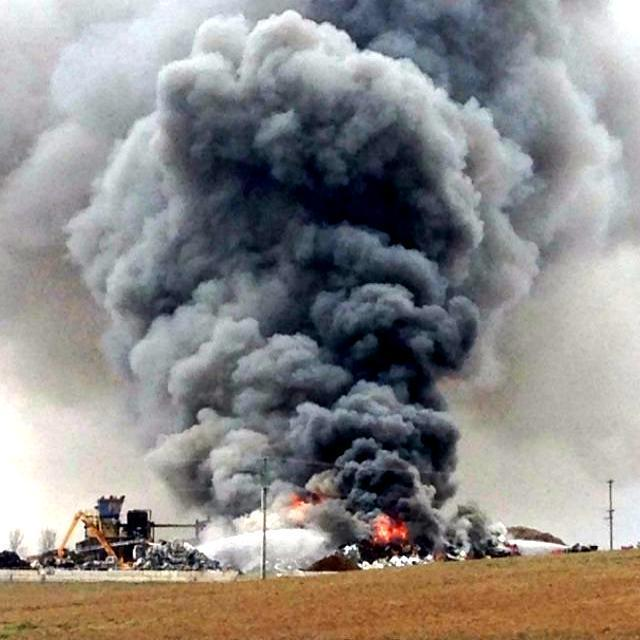Smoke: (0, 0, 628, 537)
